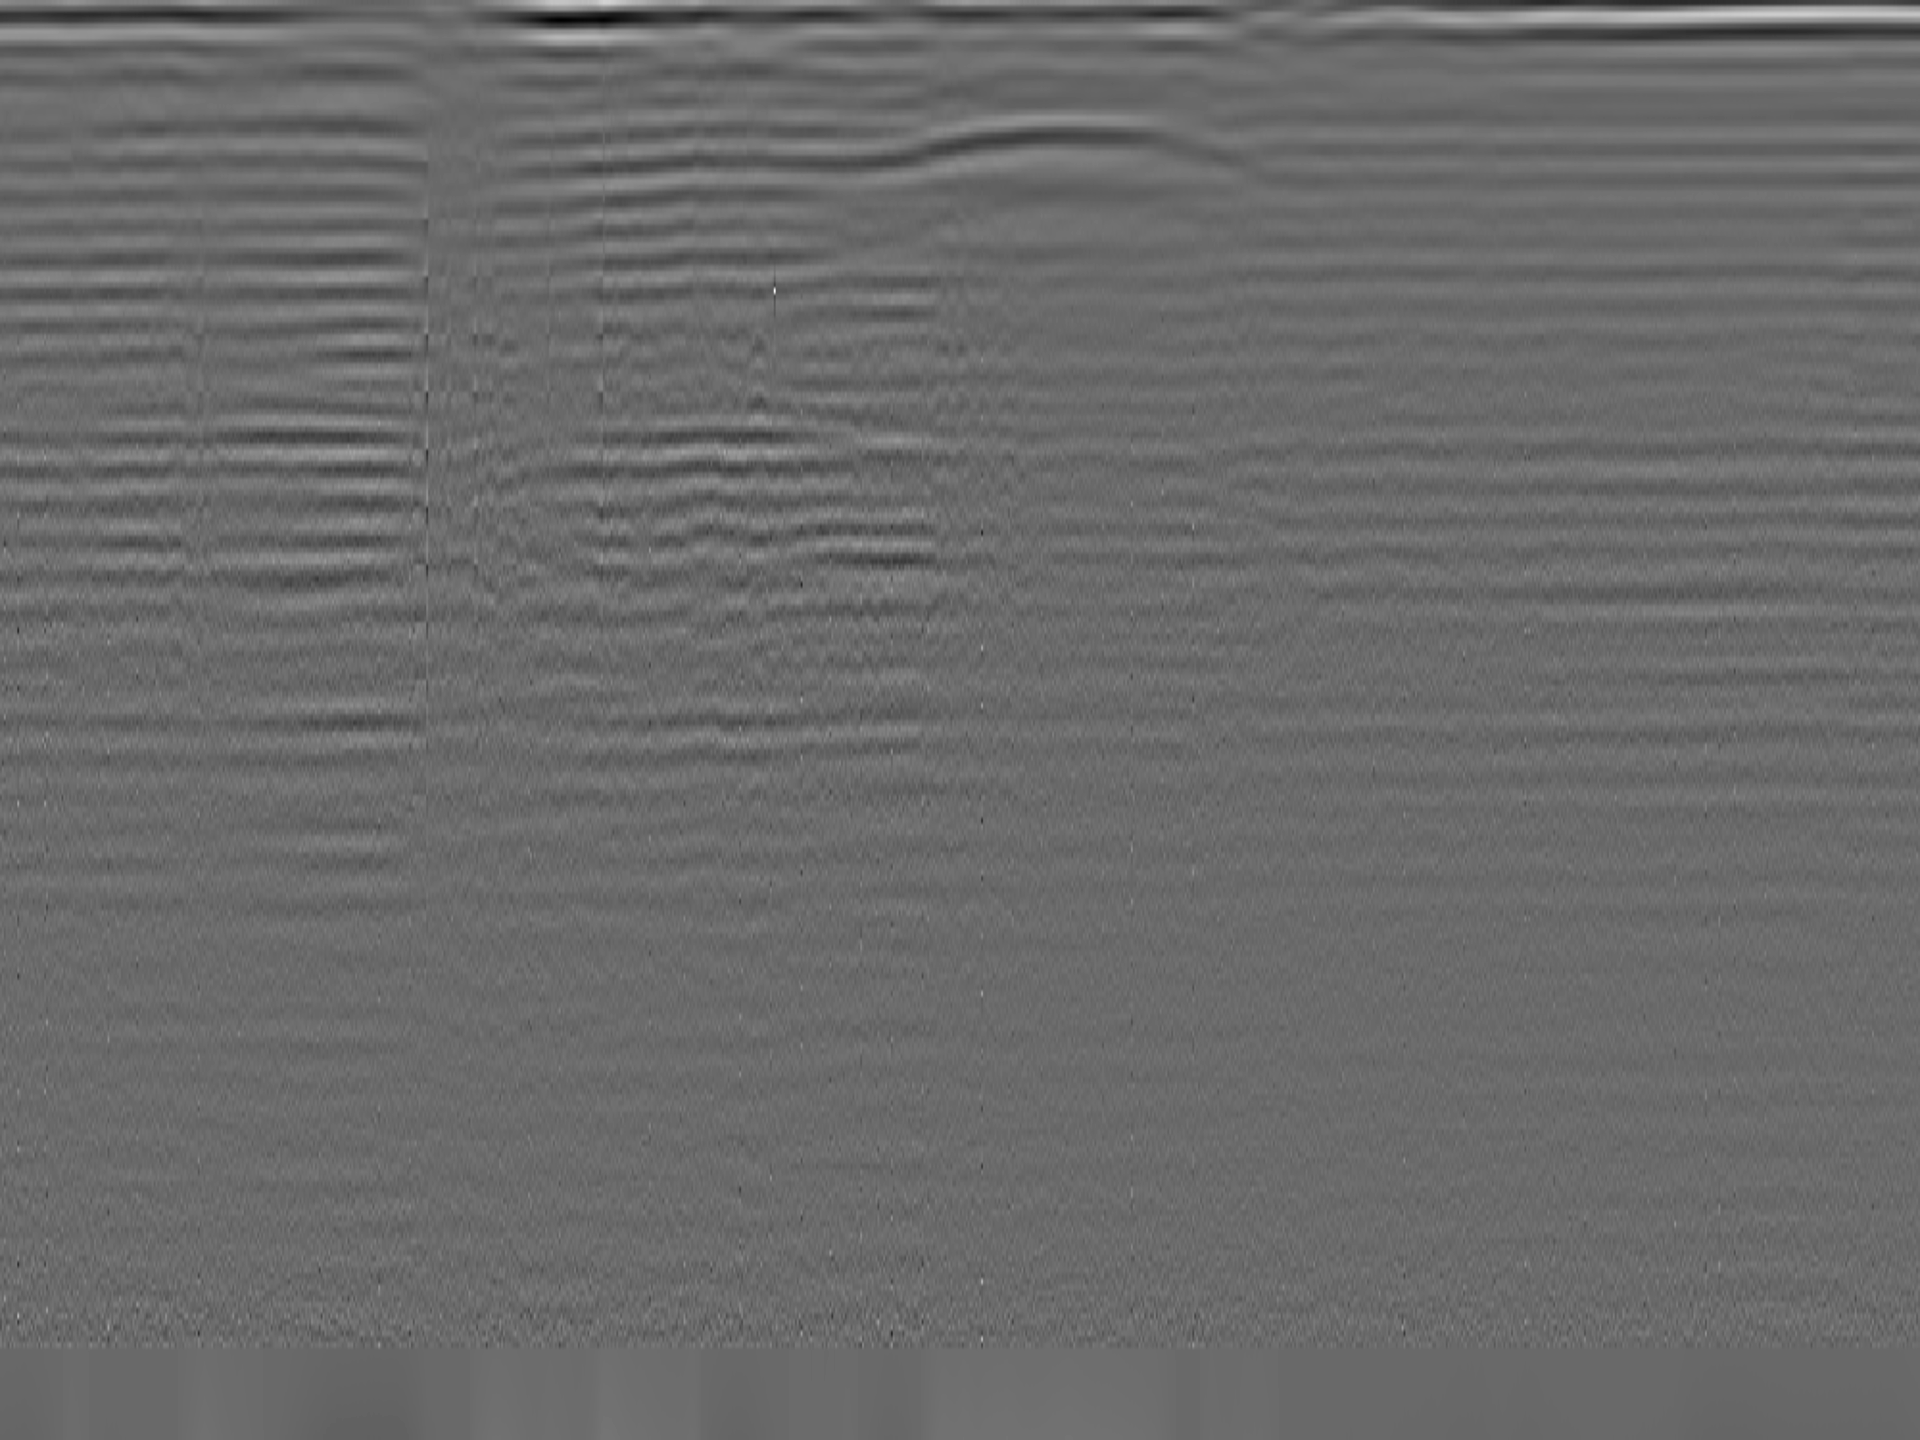Tunnel: (909, 112, 1211, 188)
